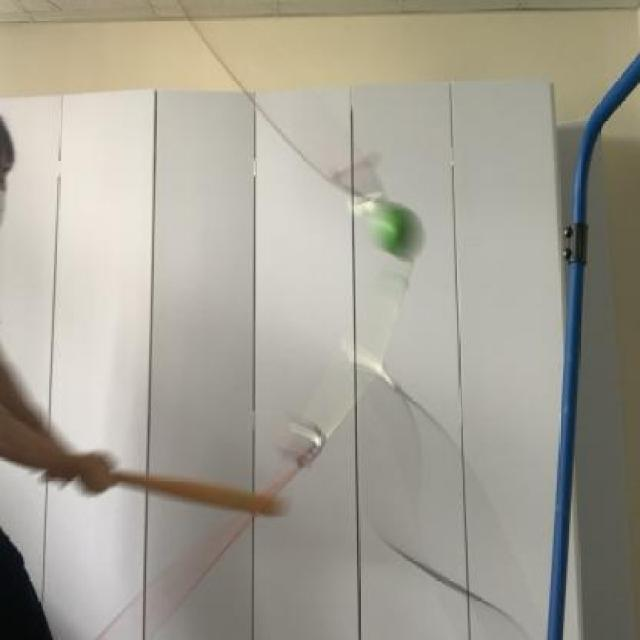baseball: (361, 196, 428, 261)
